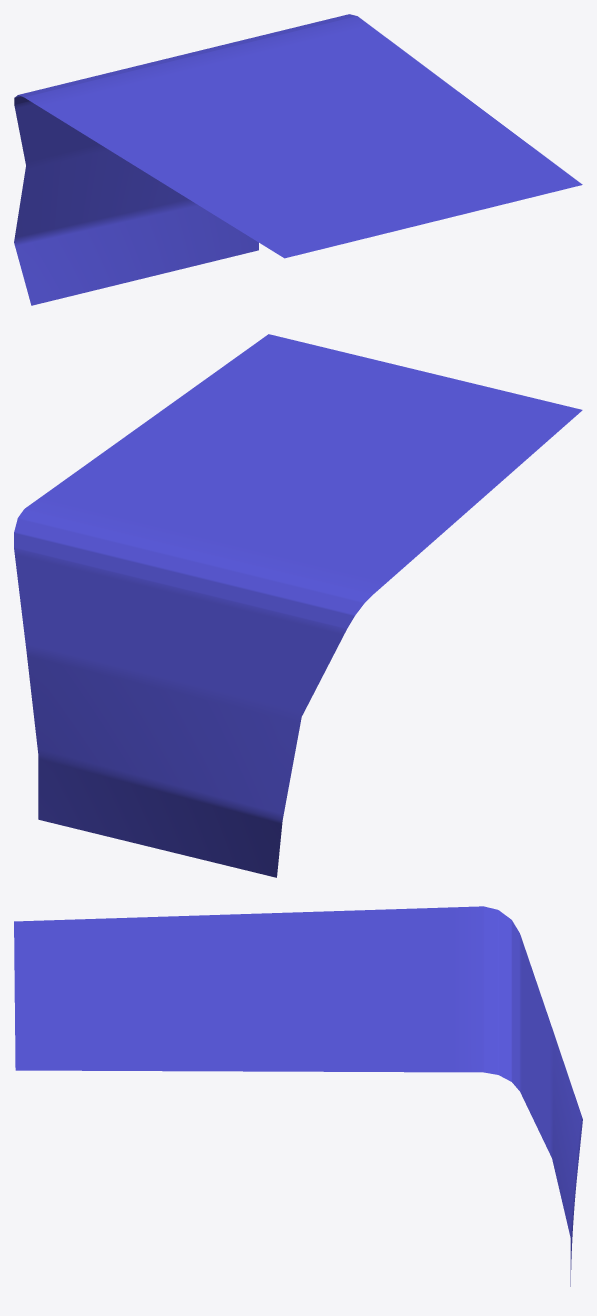
The model's file is cascade.fbx.
3 renders of one model, top to bottom at view 1: azimuth 30°, elevation 25°; view 2: azimuth 150°, elevation 25°; view 3: azimuth 270°, elevation 25°, orthographic. The views are drawn at different scales.
Parts seen in each view (by area): view 1: Plane; view 2: Plane; view 3: Plane.
Boxes of the visible parts, x1,y1,x2,y2 form: Plane: (14,14,582,305); Plane: (14,334,582,877); Plane: (14,906,582,1286).
Bounding box in the file's own units: 142 × 103 × 206.
